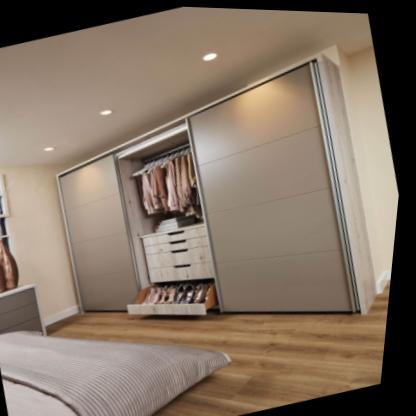Bed: (1, 330, 238, 416)
Closet: (61, 56, 366, 315)
Wooden floor: (55, 277, 396, 416)
